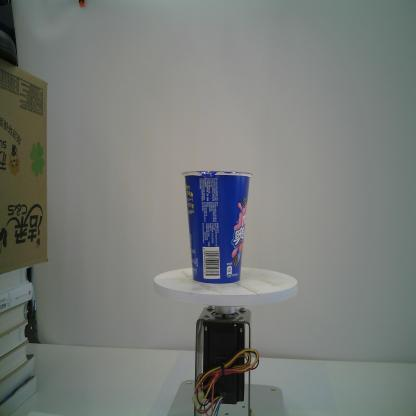Dessert: (180, 168, 254, 284)
